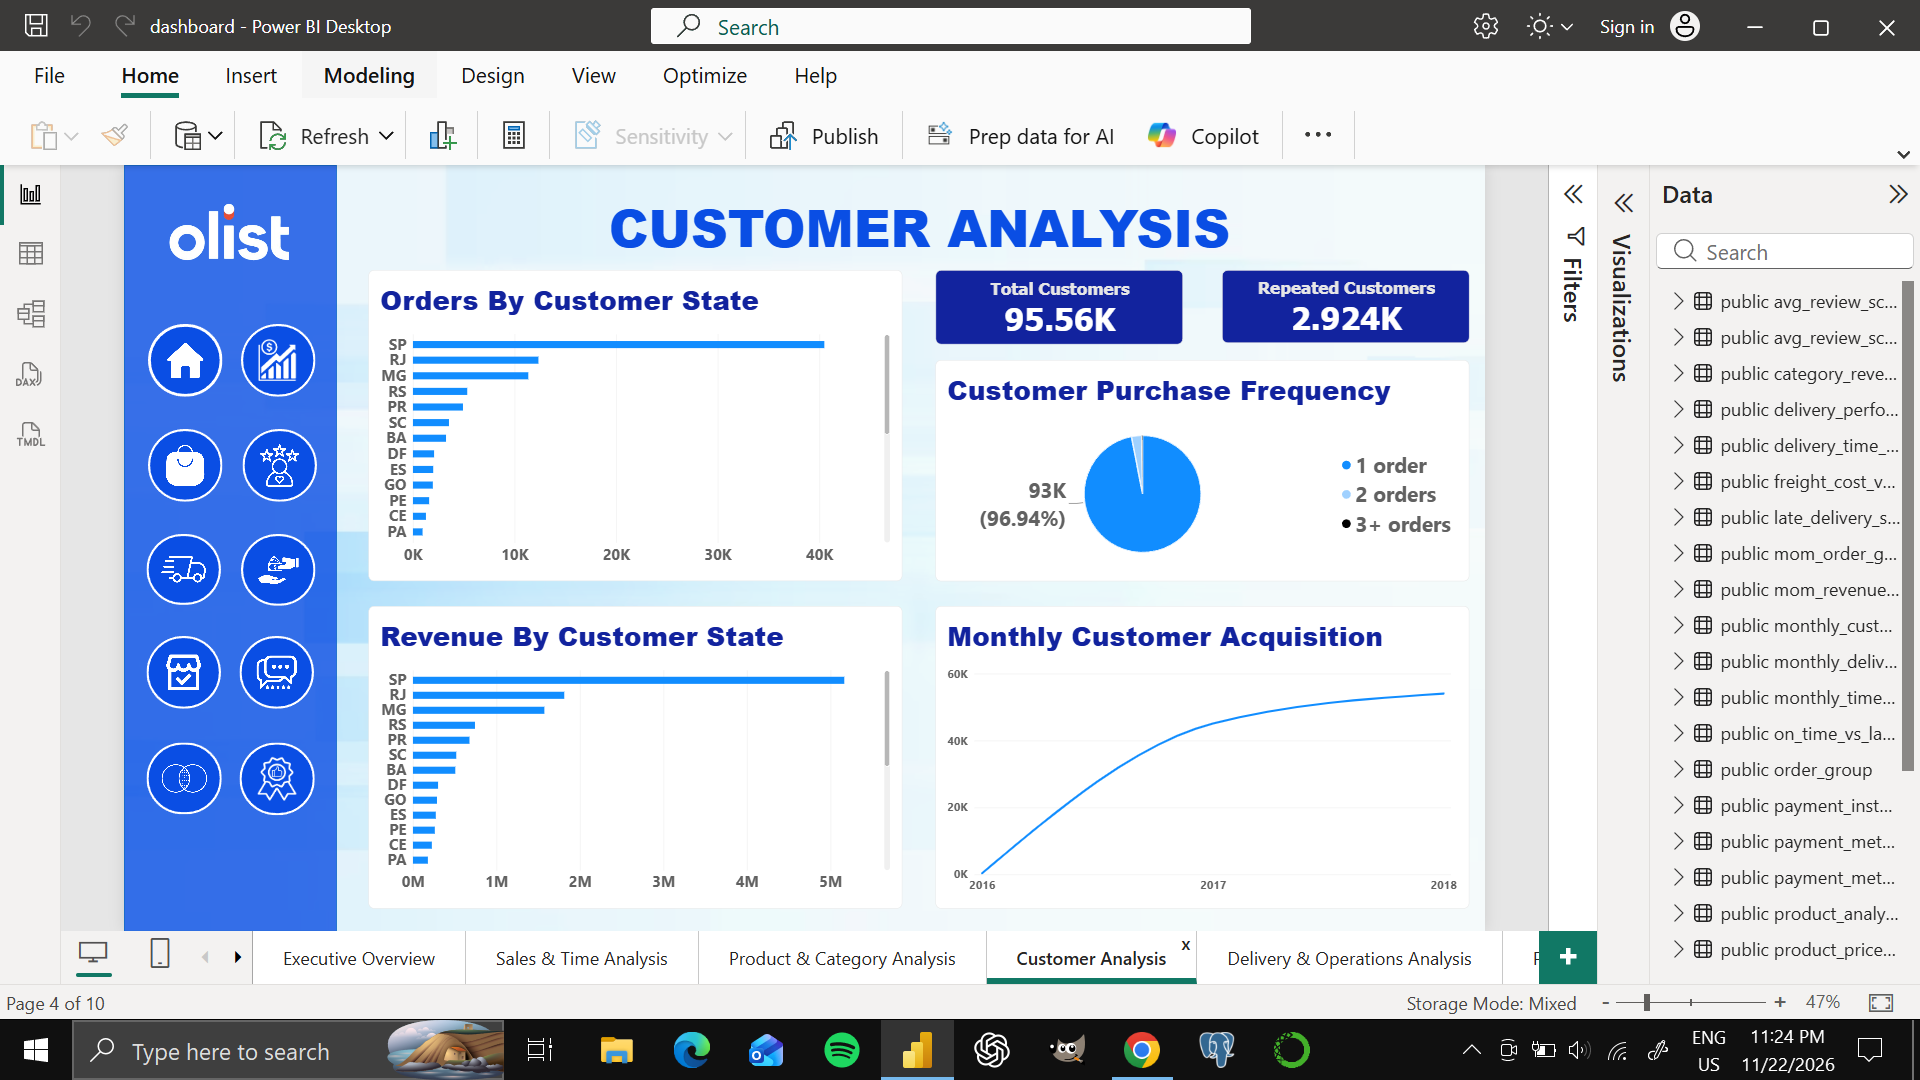

What the dashboard file says about the page in this screenshot:
{"tool":"powerbi","page":{"name":"Customer Analysis","canvas":[1920,1080],"ordinal":3},"visuals":[{"type":"shape","box":[0,0,300.1,1080.8],"z":0},{"type":"image","box":[25.8,53.9,246.2,93.8],"z":1000},{"type":"actionButton","box":[33.8,223.8,105,102.5],"z":2000},{"type":"actionButton","box":[165,223.8,105,102.5],"z":3000},{"type":"actionButton","box":[33.8,371.2,105,102.5],"z":4000},{"type":"actionButton","box":[166.2,371.2,105,102.5],"z":5000},{"type":"actionButton","box":[32.5,520,105,100],"z":6000},{"type":"actionButton","box":[165,520,105,101.2],"z":7000},{"type":"actionButton","box":[31.2,665,105,102.5],"z":8000},{"type":"actionButton","box":[163.8,665,105,102.5],"z":9000},{"type":"actionButton","box":[31.2,815,106.2,101.2],"z":10000},{"type":"textbox","box":[424.4,35.2,1392.6,112.5],"z":11000},{"type":"pieChart","title":"Customer Purchase Frequency","fields":{"Category":["public order_group.order_group"],"Y":["Sum(public order_group.customers)"]},"box":[1144.1,274.3,752.6,311.8],"z":12000},{"type":"clusteredBarChart","title":"Orders By Customer State","fields":{"Category":["public delivery_performance_by_geography.state"],"Y":["Sum(public delivery_performance_by_geography.delivered_orders)"]},"box":[344.6,147.7,752.6,438.4],"z":13000},{"type":"clusteredBarChart","title":"Revenue By Customer State","fields":{"Category":["public revenue_per_state.state"],"Y":["Sum(public revenue_per_state.revenue)"]},"box":[344.6,621.3,752.6,426.7],"z":14000},{"type":"cardVisual","fields":{"Data":["Avg(public order_group.total_customers)"]},"box":[1144.1,147.7,349.3,105.5],"z":15000},{"type":"cardVisual","fields":{"Data":["public order_group.repeated_customers"]},"box":[1547.4,147.7,349.3,103.2],"z":16000},{"type":"lineChart","title":"Monthly Customer Acquisition","fields":{"Category":["public monthly_customer_acquisition.month.Variation.Date Hierarchy.Year","public monthly_customer_acquisition.month.Variation.Date Hierarchy.Quarter","public monthly_customer_acquisition.month.Variation.Date Hierarchy.Month","public monthly_customer_acquisition.month.Variation.Date Hierarchy.Day"],"Y":["Sum(public monthly_customer_acquisition.new_customers)"]},"box":[1144.1,621.3,752.6,426.7],"z":17000},{"type":"actionButton","box":[163.8,815,106.2,102.5],"z":18000}]}

Visuals, with their boxes on the page's 1920x1080 design canvas (x1, y1, x2, y2). These are canvas units, not pixel positions in the 1920x1080 screenshot, which may show the page scaled, cropped or inside an application window:
shape: pyautogui.locateOnScreen(0, 0, 300, 1081)
image: pyautogui.locateOnScreen(26, 54, 272, 148)
actionButton: pyautogui.locateOnScreen(34, 224, 139, 326)
actionButton: pyautogui.locateOnScreen(165, 224, 270, 326)
actionButton: pyautogui.locateOnScreen(34, 371, 139, 474)
actionButton: pyautogui.locateOnScreen(166, 371, 271, 474)
actionButton: pyautogui.locateOnScreen(32, 520, 138, 620)
actionButton: pyautogui.locateOnScreen(165, 520, 270, 621)
actionButton: pyautogui.locateOnScreen(31, 665, 136, 768)
actionButton: pyautogui.locateOnScreen(164, 665, 269, 768)
actionButton: pyautogui.locateOnScreen(31, 815, 137, 916)
textbox: pyautogui.locateOnScreen(424, 35, 1817, 148)
"Customer Purchase Frequency" pieChart: pyautogui.locateOnScreen(1144, 274, 1897, 586)
"Orders By Customer State" clusteredBarChart: pyautogui.locateOnScreen(345, 148, 1097, 586)
"Revenue By Customer State" clusteredBarChart: pyautogui.locateOnScreen(345, 621, 1097, 1048)
cardVisual - Avg(public order_group.total_customers): pyautogui.locateOnScreen(1144, 148, 1493, 253)
cardVisual - public order_group.repeated_customers: pyautogui.locateOnScreen(1547, 148, 1897, 251)
"Monthly Customer Acquisition" lineChart: pyautogui.locateOnScreen(1144, 621, 1897, 1048)
actionButton: pyautogui.locateOnScreen(164, 815, 270, 918)
